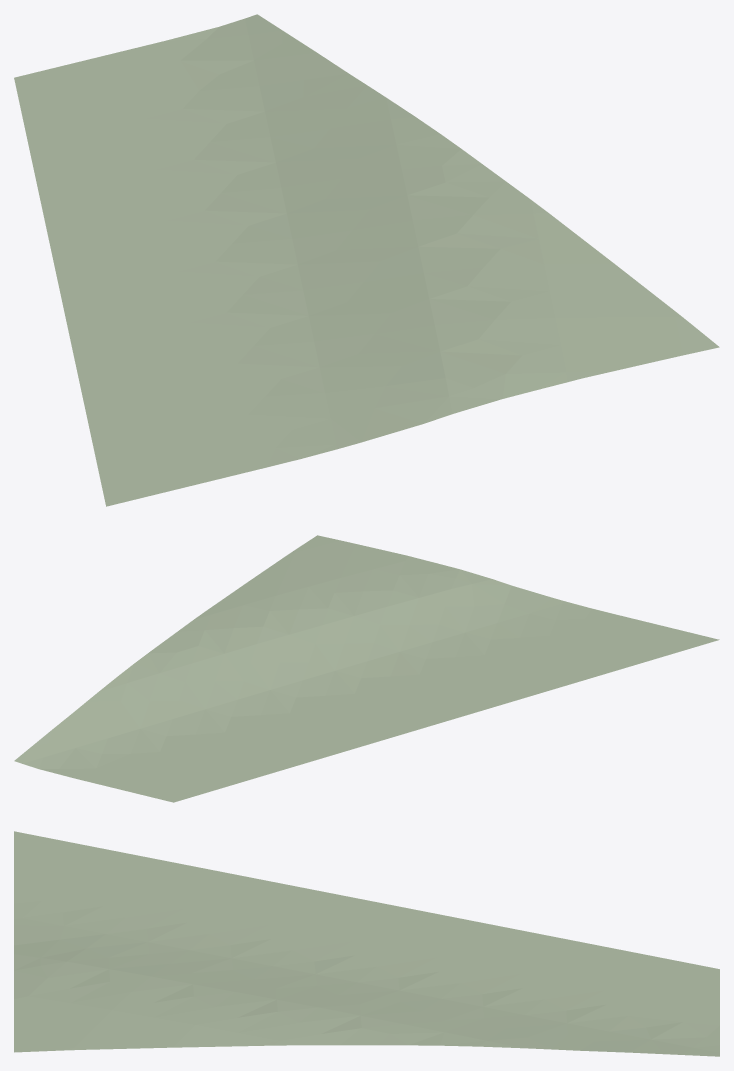
Rendered from SM_MPRR_Terrain_-4_2.fbx.
3 views of the same model, one above another, from view 1: azimuth 30°, elevation 25°; view 2: azimuth 150°, elevation 25°; view 3: azimuth 270°, elevation 25° (orthographic). The views are drawn at different scales.
Parts seen in each view (by area): view 1: SM_MPRR_Terrain_-4_2; view 2: SM_MPRR_Terrain_-4_2; view 3: SM_MPRR_Terrain_-4_2.
Boxes of the visible parts, <box> form: SM_MPRR_Terrain_-4_2: <box>14,14,719,506</box>; SM_MPRR_Terrain_-4_2: <box>14,535,719,802</box>; SM_MPRR_Terrain_-4_2: <box>14,831,719,1056</box>.
Bounding box in the file's own units: 11491 × 15000 × 350.
